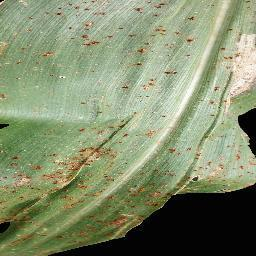Corn_Common_Rust: (1, 195, 131, 253), (0, 0, 217, 31), (51, 137, 123, 195), (207, 133, 256, 196), (220, 31, 256, 100), (2, 162, 50, 194), (150, 168, 206, 193), (133, 177, 154, 228), (119, 76, 159, 95), (127, 31, 148, 67), (220, 101, 237, 134), (78, 127, 134, 137), (147, 32, 175, 51), (74, 34, 106, 50), (180, 32, 199, 58), (154, 194, 175, 214), (243, 0, 256, 30), (166, 146, 195, 159), (124, 158, 133, 193), (120, 110, 139, 124), (207, 99, 219, 121), (49, 72, 73, 82), (140, 127, 159, 139), (8, 151, 25, 163), (41, 47, 57, 59), (0, 39, 10, 58), (161, 67, 180, 76), (209, 84, 219, 99), (18, 43, 31, 53), (93, 107, 105, 117), (78, 96, 88, 107), (107, 33, 116, 43), (224, 25, 236, 31), (0, 92, 8, 101), (16, 60, 23, 67), (13, 77, 23, 81)
